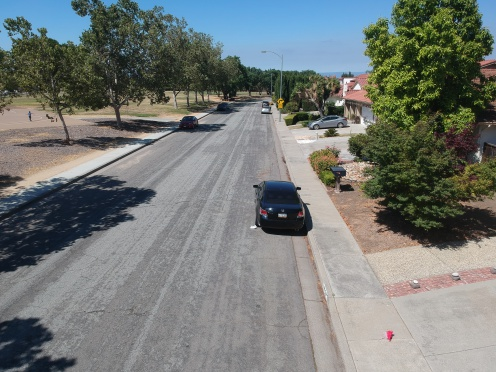plastic bag: (380, 326, 399, 344), (246, 221, 260, 232)
